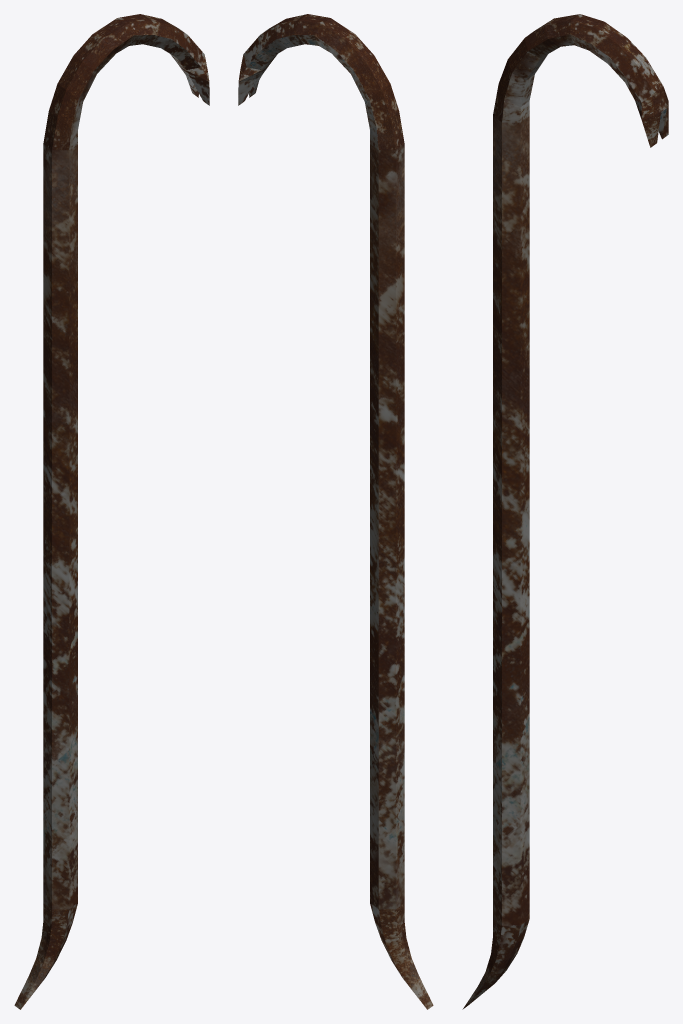
Rendered from Crowbar.fbx.
The picture shows the model from 3 angles, left to right: view 1: azimuth 30°, elevation 25°; view 2: azimuth 150°, elevation 25°; view 3: azimuth 330°, elevation 25°; orthographic projection. The views are drawn at different scales.
Parts seen in each view (by area): view 1: Cylinder; view 2: Cylinder; view 3: Cylinder.
Boxes of the visible parts, <box> form: Cylinder: <box>14,14,209,1009</box>; Cylinder: <box>238,14,433,1009</box>; Cylinder: <box>462,14,668,1009</box>.
Bounding box in the file's own units: 16.31 × 79.86 × 3.82.
Materials: 1 (1 with a texture image).
